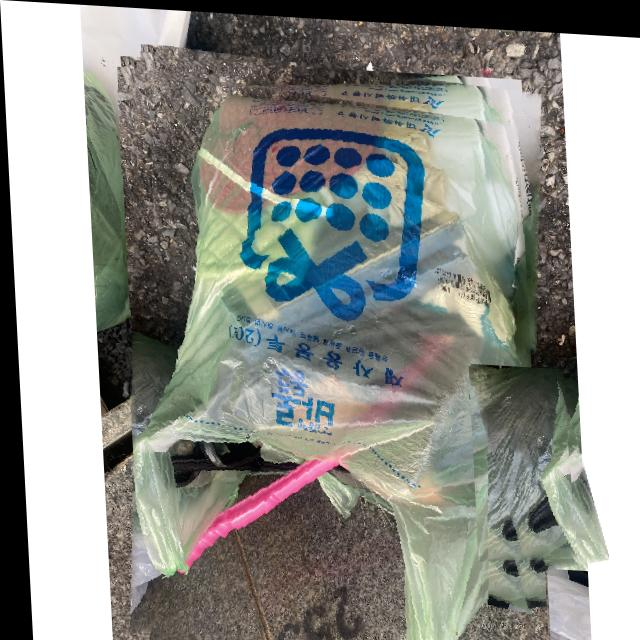general_trashbag: (129, 93, 532, 640), (466, 359, 570, 554)
